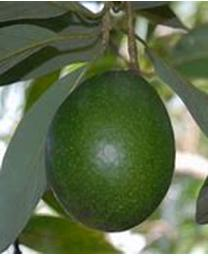avocado: (39, 66, 178, 234)
